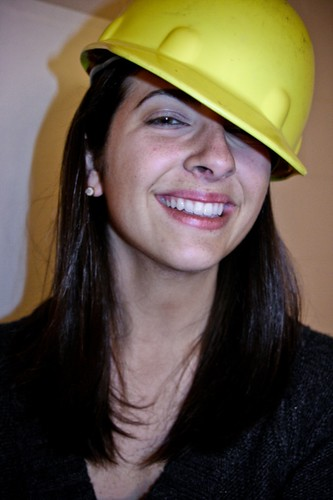person hardhat: (7, 1, 333, 500)
